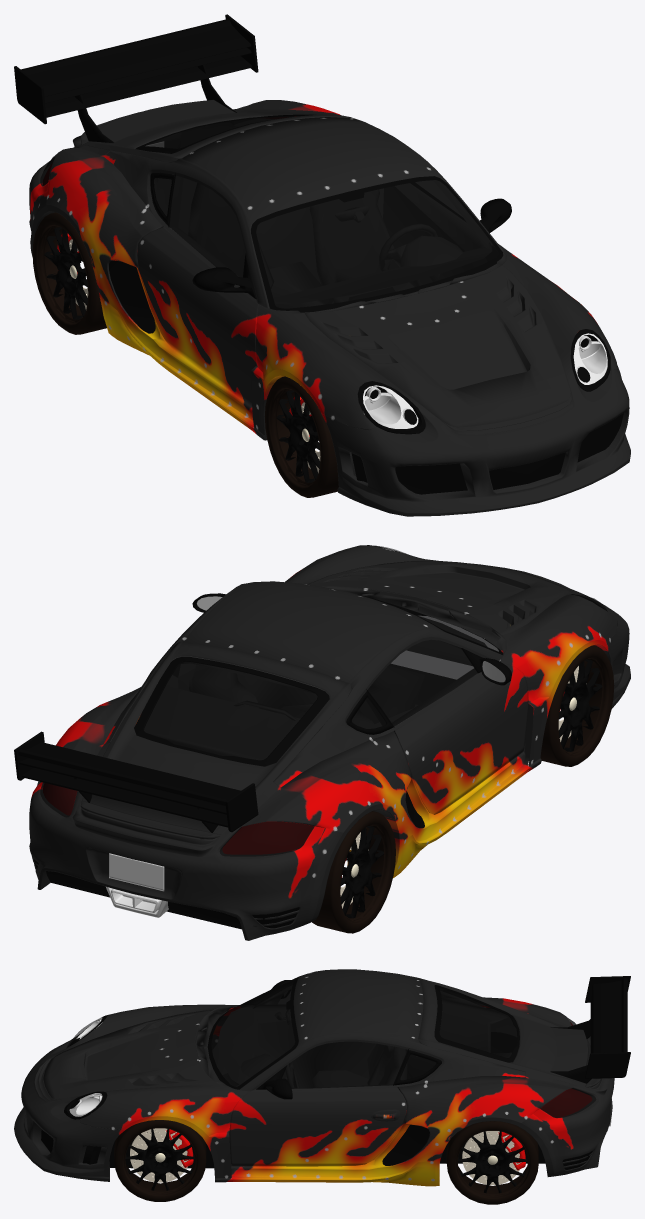
Rendered from porsche.glb.
3 views of the same model, one above another, from view 1: azimuth 30°, elevation 25°; view 2: azimuth 150°, elevation 25°; view 3: azimuth 270°, elevation 25° (orthographic). The views are drawn at different scales.
Parts seen in each view (by area): view 1: KIT04_BODY_A.004, KIT00_REAR_WINDOW_A.001, KIT00_INTERIOR_A, SPOILER_STYLE43_A.001, BBS_STYLE04_17_25_A.001, BBS_STYLE04_17_25_A.004, KIT04_BODY_A.002, BASE_A.001, KIT00_LEFT_SIDE_MIRROR_A, KIT04_BODY_A.015, KIT00_LEFT_HEADLIGHT_A.005, KIT00_LEFT_HEADLIGHT_A.003 (+1 smaller); view 2: KIT04_BODY_A.004, KIT00_REAR_WINDOW_A.001, KIT00_INTERIOR_A, SPOILER_STYLE43_A.001, BBS_STYLE04_17_25_A.001, BBS_STYLE04_17_25_A.004, BASE_A.001, KIT00_LEFT_HEADLIGHT_A.015, KIT00_LEFT_HEADLIGHT_A.014, KIT04_BODY_A.008, KIT04_BODY_A.014, KIT04_BODY_A.015 (+2 smaller); view 3: KIT04_BODY_A.004, KIT00_REAR_WINDOW_A.001, KIT00_INTERIOR_A, BBS_STYLE04_17_25_A.001, SPOILER_STYLE43_A.001, BBS_STYLE04_17_25_A.004, BASE_A.001, brake_disk_1_metal_1_brake_disk_0.001, KIT04_BODY_A.015, KIT04_BODY_A.003, KIT00_LEFT_HEADLIGHT_A.015, KIT00_LEFT_HEADLIGHT_A.014 (+4 smaller).
Part boxes in pixels (<box>): KIT04_BODY_A.004: <box>29,99,630,516</box>; KIT00_REAR_WINDOW_A.001: <box>144,114,498,308</box>; KIT00_INTERIOR_A: <box>154,176,491,381</box>; SPOILER_STYLE43_A.001: <box>14,14,258,142</box>; BBS_STYLE04_17_25_A.001: <box>32,212,338,497</box>; BBS_STYLE04_17_25_A.004: <box>44,227,320,482</box>; KIT04_BODY_A.002: <box>395,413,623,494</box>; BASE_A.001: <box>135,114,503,312</box>; KIT00_LEFT_SIDE_MIRROR_A: <box>192,198,511,299</box>; KIT04_BODY_A.015: <box>109,260,367,482</box>; KIT00_LEFT_HEADLIGHT_A.005: <box>357,329,610,434</box>; KIT00_LEFT_HEADLIGHT_A.003: <box>363,333,607,428</box>; KIT04_BODY_A.004: <box>29,545,630,940</box>; KIT00_REAR_WINDOW_A.001: <box>144,594,498,760</box>; KIT00_INTERIOR_A: <box>144,616,486,759</box>; SPOILER_STYLE43_A.001: <box>14,731,258,832</box>; BBS_STYLE04_17_25_A.001: <box>312,645,614,933</box>; BBS_STYLE04_17_25_A.004: <box>340,659,602,918</box>; BASE_A.001: <box>134,608,503,766</box>; KIT00_LEFT_HEADLIGHT_A.015: <box>40,545,607,856</box>; KIT00_LEFT_HEADLIGHT_A.014: <box>43,783,314,854</box>; KIT04_BODY_A.008: <box>46,871,241,929</box>; KIT04_BODY_A.014: <box>109,853,164,891</box>; KIT04_BODY_A.015: <box>33,791,424,928</box>; KIT04_BODY_A.004: <box>14,969,614,1186</box>; KIT00_REAR_WINDOW_A.001: <box>211,979,517,1088</box>; KIT00_INTERIOR_A: <box>212,986,511,1091</box>; BBS_STYLE04_17_25_A.001: <box>114,1120,538,1204</box>; SPOILER_STYLE43_A.001: <box>550,976,630,1083</box>; BBS_STYLE04_17_25_A.004: <box>125,1129,527,1193</box>; BASE_A.001: <box>89,977,519,1164</box>; brake_disk_1_metal_1_brake_disk_0.001: <box>130,1128,521,1185</box>; KIT04_BODY_A.015: <box>82,1124,592,1169</box>; KIT04_BODY_A.003: <box>109,1032,545,1168</box>; KIT00_LEFT_HEADLIGHT_A.015: <box>67,1017,596,1117</box>; KIT00_LEFT_HEADLIGHT_A.014: <box>540,1022,591,1117</box>.
Bounding box in the file's own units: 2.38 × 1.55 × 5.48.
35 materials, 1 textured.
